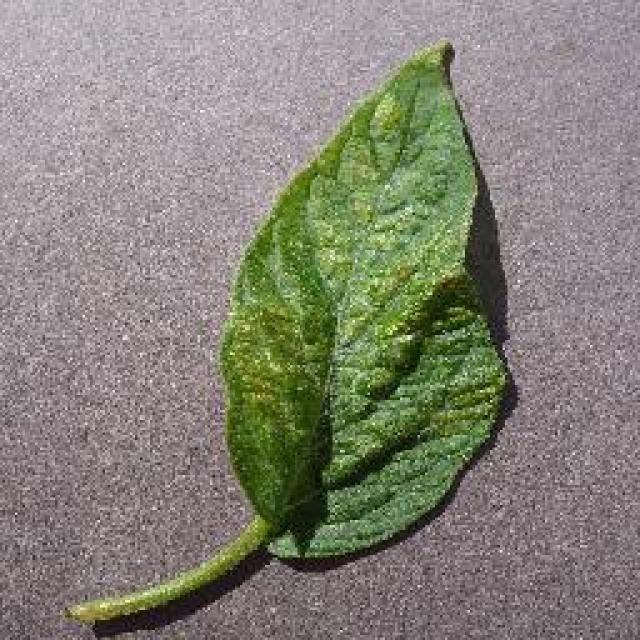Tomato spider mites leaf: (223, 46, 507, 556)
